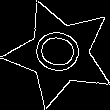O_E: (29, 27, 90, 81)
